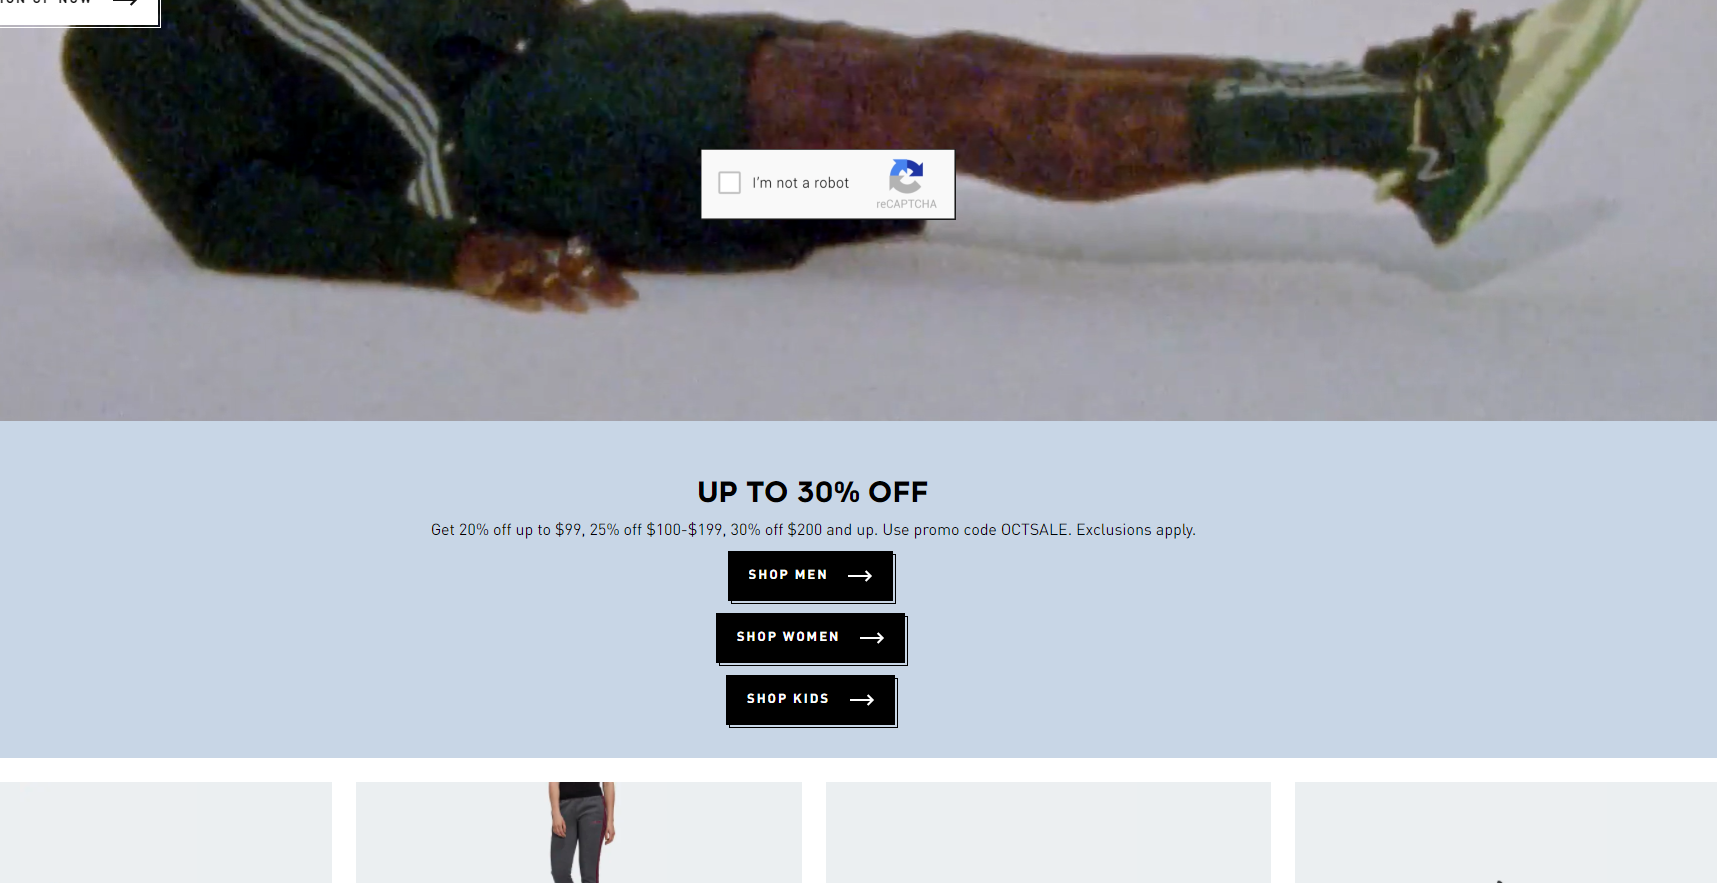captcha: (691, 139, 968, 228)
